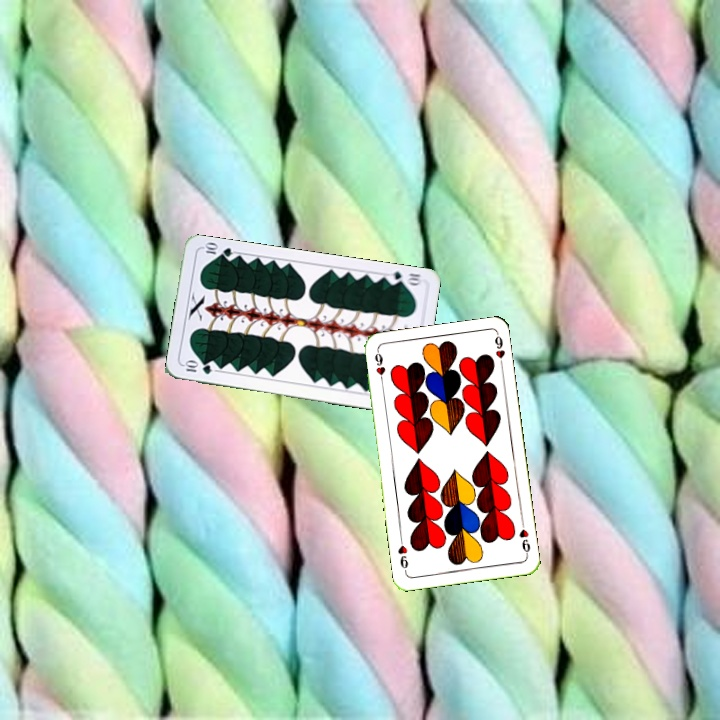G10: (383, 267, 424, 288), (180, 358, 214, 377)
H9: (515, 518, 533, 558), (371, 347, 388, 388)
